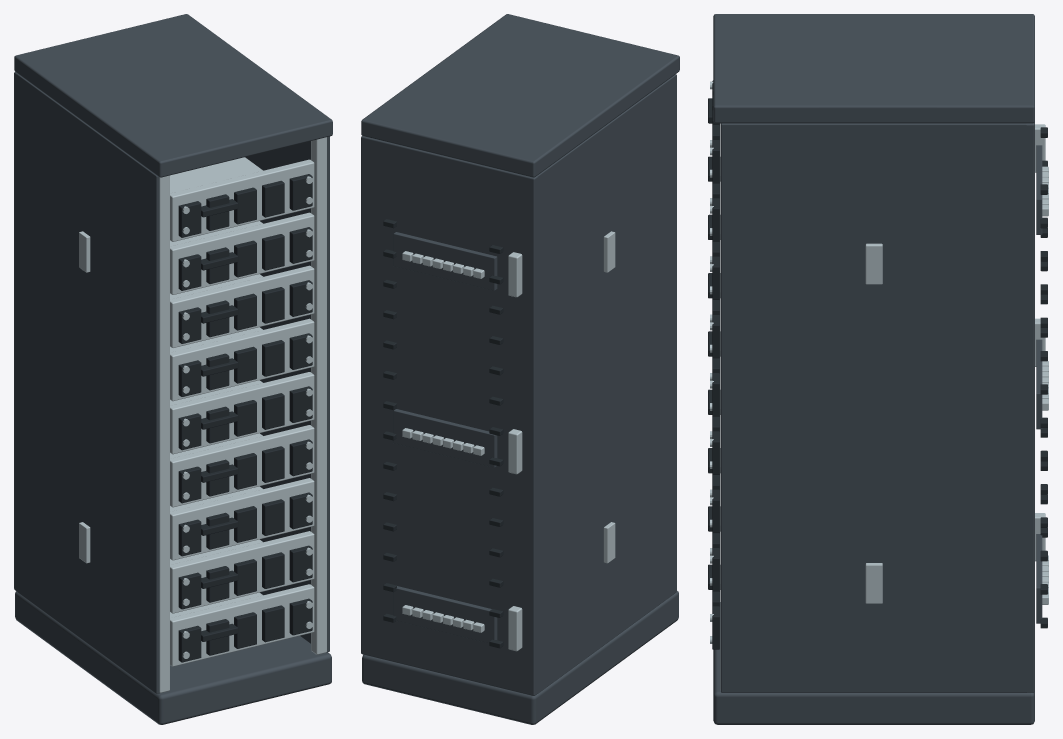
File: data-centre-infiltration-kit-data-centre-infiltration--dbccb8f7__29227.glb
3 renders of one model, left to right at view 1: azimuth 30°, elevation 25°; view 2: azimuth 150°, elevation 25°; view 3: azimuth 270°, elevation 25°, orthographic. The views are drawn at different scales.
Parts seen in each view (by area): view 1: data-centre-infiltration-kit-storage-rack; view 2: data-centre-infiltration-kit-storage-rack; view 3: data-centre-infiltration-kit-storage-rack.
Boxes of the visible parts, x1=… form: data-centre-infiltration-kit-storage-rack: x1=14, y1=14, x2=332, y2=724; data-centre-infiltration-kit-storage-rack: x1=361, y1=14, x2=679, y2=724; data-centre-infiltration-kit-storage-rack: x1=708, y1=14, x2=1048, y2=724.
Size of the model in its own units: 0.754 by 2.23 by 1.11.
